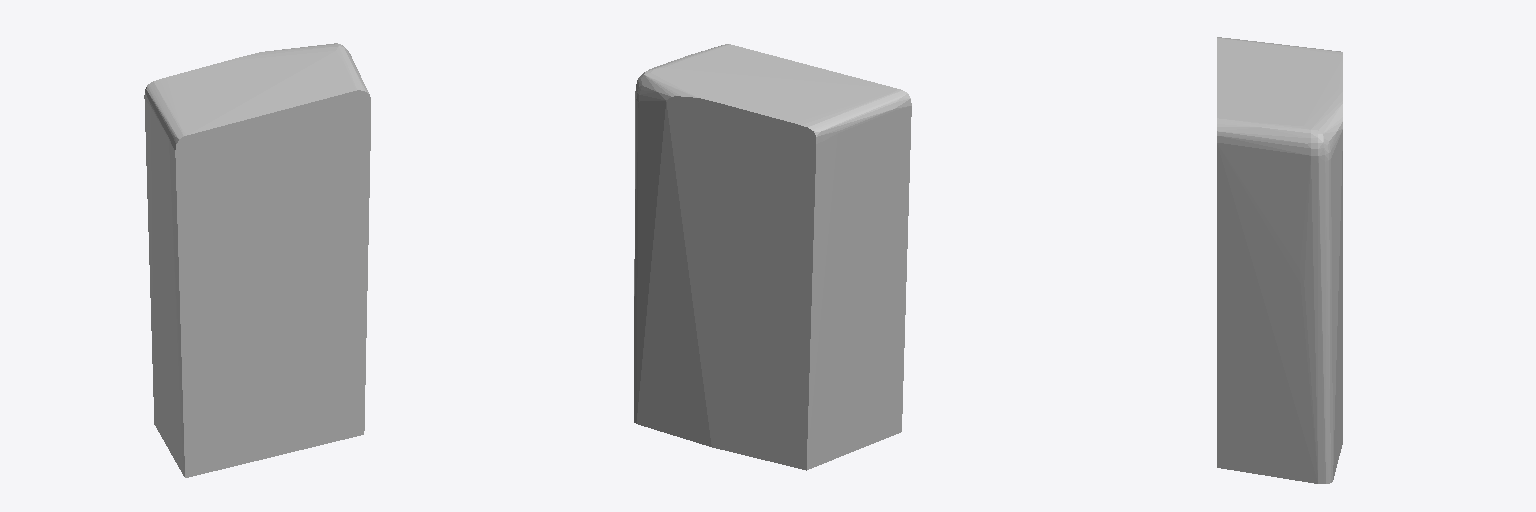
Rendered from box_long_brown_M_collision_1.obj.
3 views of the same model, side by side, from view 1: azimuth 30°, elevation 25°; view 2: azimuth 150°, elevation 25°; view 3: azimuth 270°, elevation 25° (orthographic).
Bounding box in the file's own units: 0.0448 × 0.0665 × 0.0218.